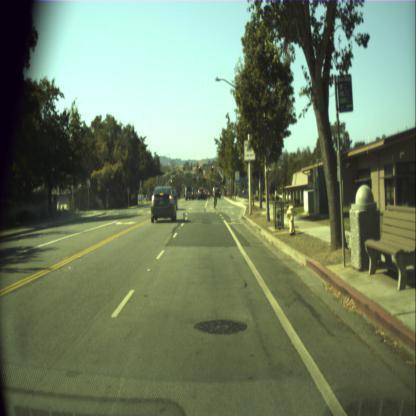Red: (210, 164, 214, 172), (198, 166, 200, 172), (204, 175, 206, 181), (221, 179, 223, 184)
Yellow: (212, 178, 214, 183)
